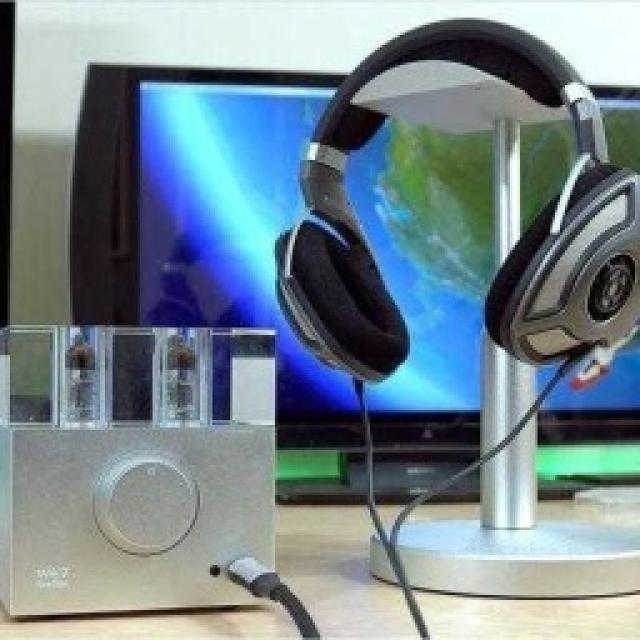headphones: (270, 15, 638, 383)
